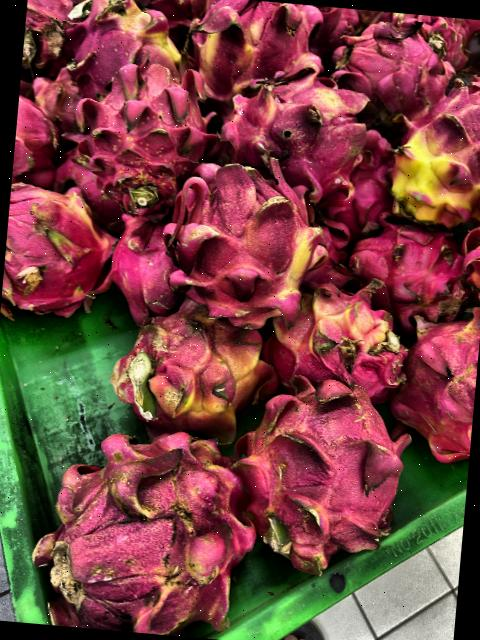buah-naga-belum-matang: (160, 152, 326, 324), (217, 52, 391, 202), (114, 302, 262, 439), (1, 173, 111, 316), (268, 285, 406, 396), (390, 82, 480, 221), (185, 0, 323, 89), (55, 0, 181, 75)
buah-naga-matang: (38, 415, 259, 640), (229, 374, 419, 576), (73, 58, 213, 204), (344, 213, 464, 321), (323, 20, 448, 120), (393, 312, 480, 455), (107, 212, 180, 320), (12, 92, 70, 188), (402, 14, 476, 66)
